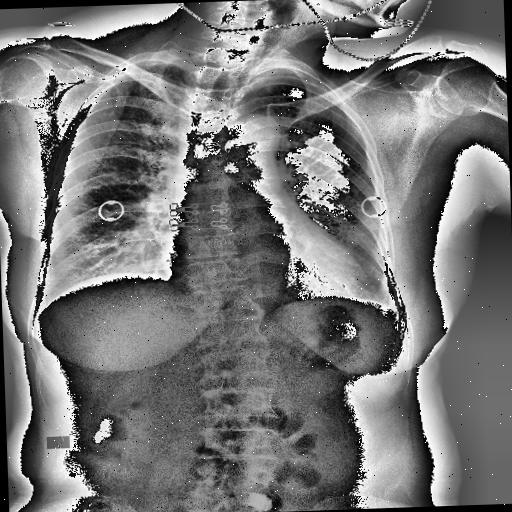0- Aortic enlargement: (220, 111, 285, 173), (228, 111, 280, 151), (231, 112, 280, 147)
3- Cardiomegaly: (162, 236, 374, 312), (158, 231, 366, 306), (160, 234, 366, 304)
